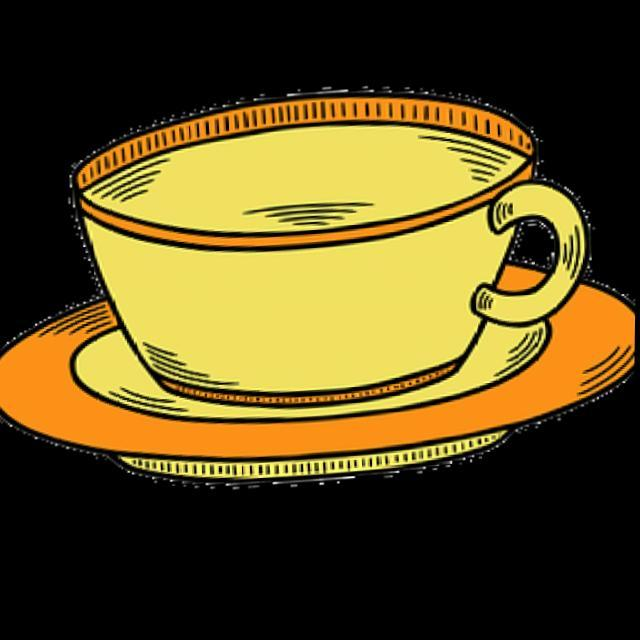cup: (0, 65, 639, 577)
